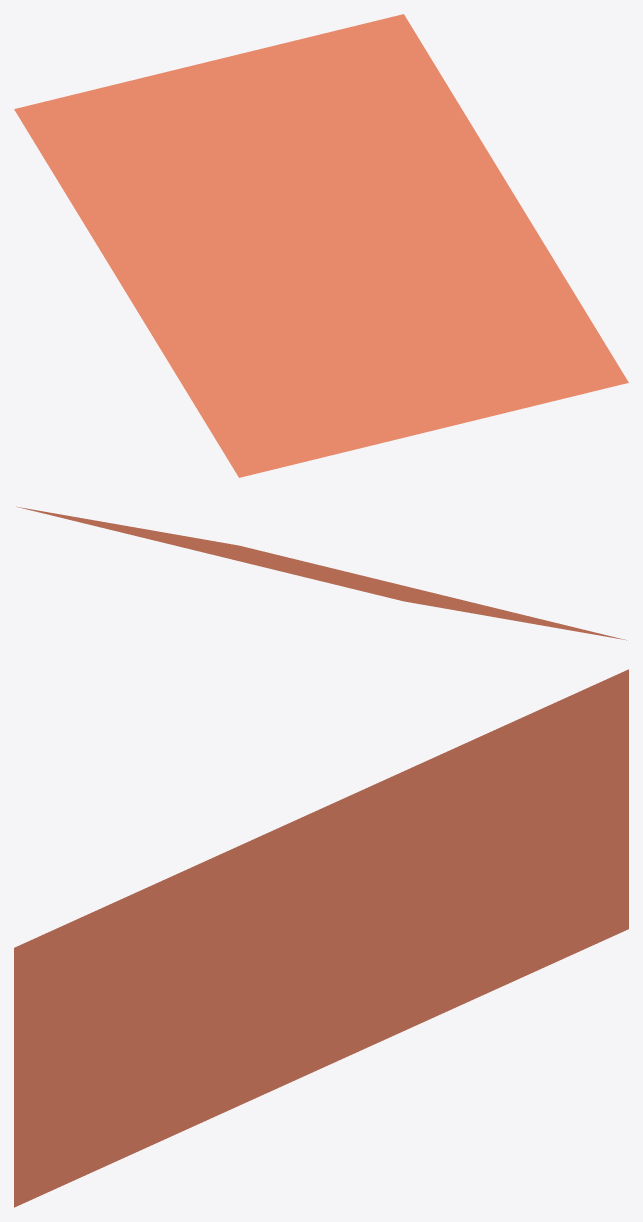
The model's file is terrain_side.dae.
3 views of the same model, one above another, from view 1: azimuth 30°, elevation 25°; view 2: azimuth 150°, elevation 25°; view 3: azimuth 270°, elevation 25° (orthographic). The views are drawn at different scales.
Visible parts, largest first — view 1: terrain_side; view 2: terrain_side; view 3: terrain_side.
Part boxes in pixels (bbox=[...]): terrain_side: bbox=[14, 14, 628, 477]; terrain_side: bbox=[16, 506, 626, 640]; terrain_side: bbox=[14, 669, 628, 1207].
Bounding box in the file's own units: 1 × 0.5 × 1.
